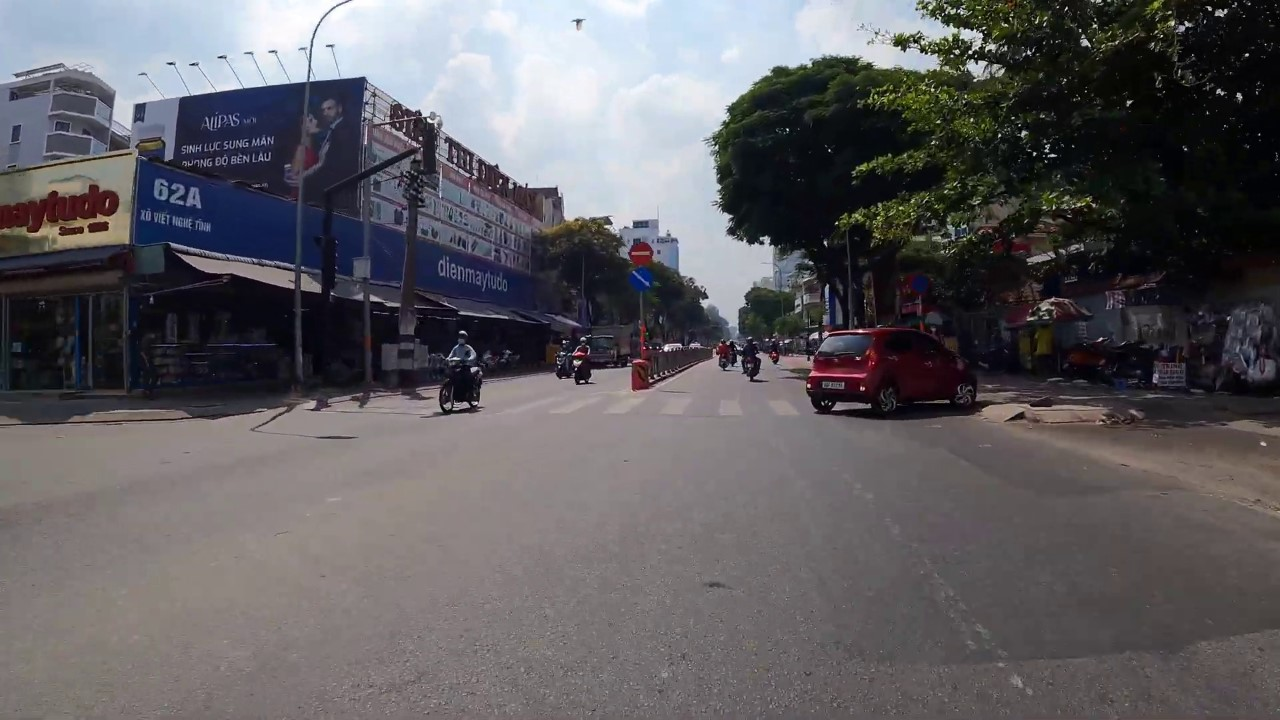cam_nguoc_chieu: (628, 241, 654, 266)
huong_phai_di_vong: (629, 267, 654, 291)
